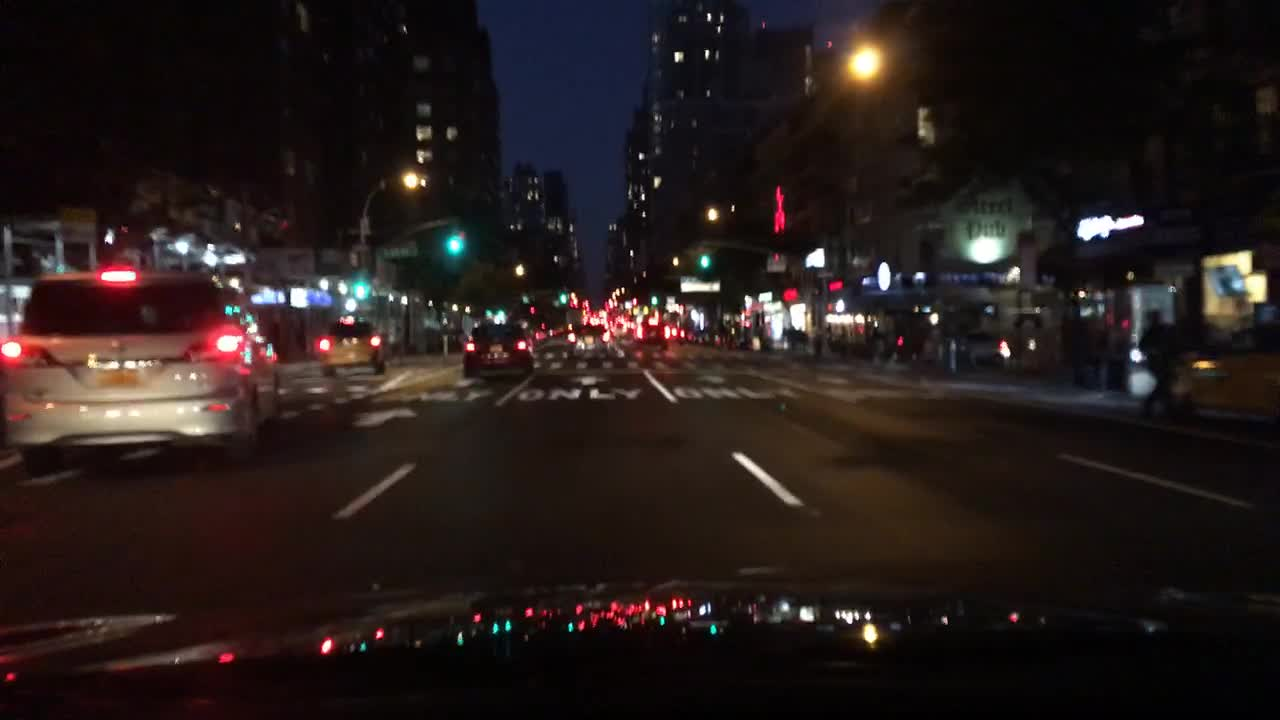car: (0, 271, 278, 462), (1179, 331, 1277, 426), (313, 311, 388, 377), (460, 318, 534, 378), (958, 329, 1008, 369), (570, 313, 614, 355), (637, 311, 668, 348), (614, 311, 634, 338), (690, 326, 706, 348), (669, 321, 684, 340)
person: (1136, 306, 1183, 425)
traffic light: (350, 273, 369, 302), (442, 233, 462, 257), (698, 252, 711, 267), (495, 305, 507, 318), (559, 291, 568, 305)
traffic sign: (62, 206, 96, 224), (383, 246, 418, 260), (679, 282, 720, 292), (756, 289, 773, 303), (815, 244, 825, 267), (622, 296, 634, 310)
